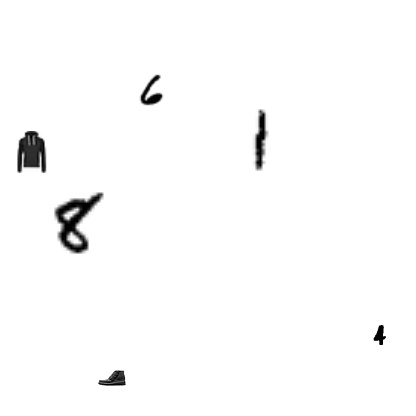1: (217, 98, 301, 182)
4: (366, 321, 394, 349)
6: (129, 72, 171, 114)
8: (31, 178, 115, 262)
Ankle_boot: (98, 364, 126, 392)
Pullover: (10, 131, 52, 173)
